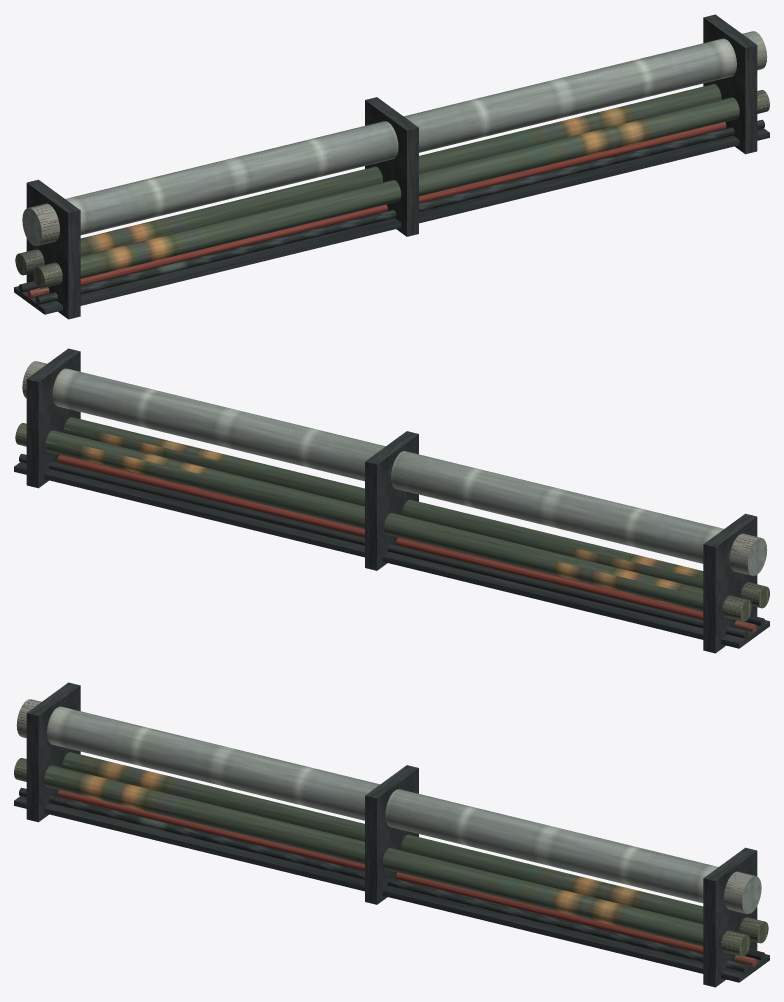
File: pipe_run_3.glb
3 views of the same model, one above another, from view 1: azimuth 30°, elevation 25°; view 2: azimuth 150°, elevation 25°; view 3: azimuth 330°, elevation 25° (orthographic).
Parts seen in each view (by area): view 1: PipeRun3; view 2: PipeRun3; view 3: PipeRun3.
Part boxes in pixels (box(x1,y1,x2,y2)): PipeRun3: box(14, 14, 769, 319); PipeRun3: box(14, 348, 769, 653); PipeRun3: box(14, 682, 769, 987).
Size of the model in its own units: 3 by 0.42 by 0.3.
1 material, 1 textured.
